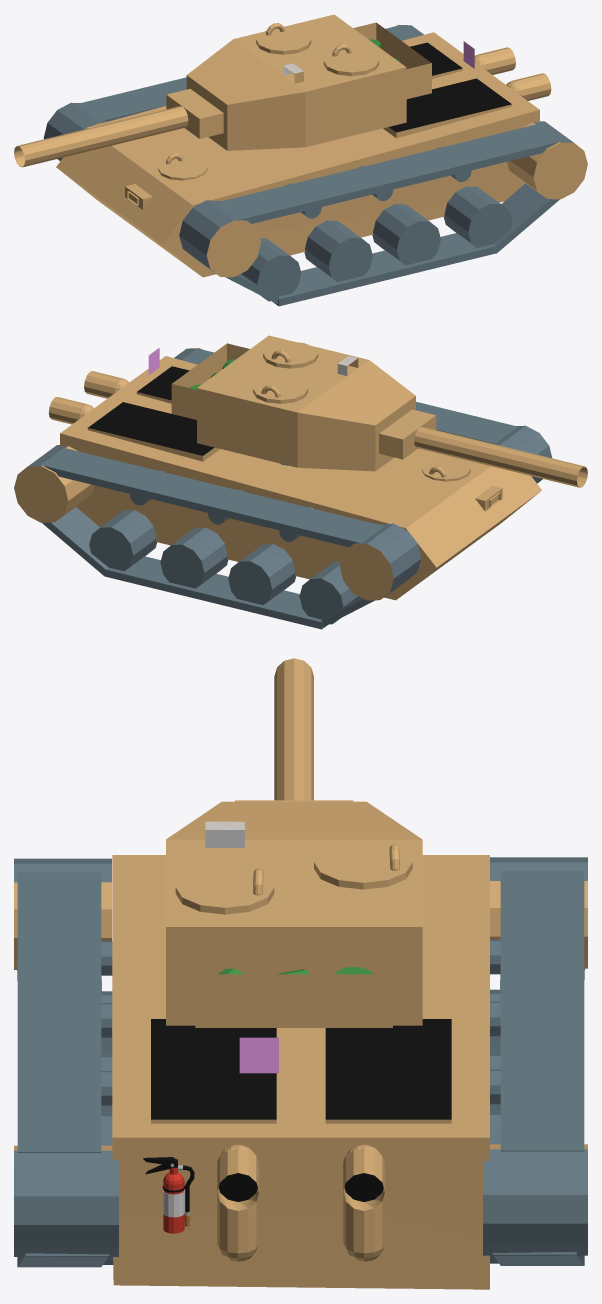
File: tank.gltf
3 views of the same model, one above another, from view 1: azimuth 30°, elevation 25°; view 2: azimuth 150°, elevation 25°; view 3: azimuth 270°, elevation 25° (orthographic). The views are drawn at different scales.
Visible parts, largest first — view 1: node_MeshObject-601797504-PolyPaper18; view 2: node_MeshObject-601797504-PolyPaper18; view 3: node_MeshObject-601797504-PolyPaper18, node_MeshObject-83077440-PolyGem25.
Boxes of the visible parts, x1,y1,x2,y2 form: node_MeshObject-601797504-PolyPaper18: (14,14,587,306); node_MeshObject-601797504-PolyPaper18: (14,335,587,629); node_MeshObject-601797504-PolyPaper18: (14,658,587,1289); node_MeshObject-83077440-PolyGem25: (239,1037,278,1073).
Bounding box in the file's own units: 1.5 × 0.5097 × 0.8207.
